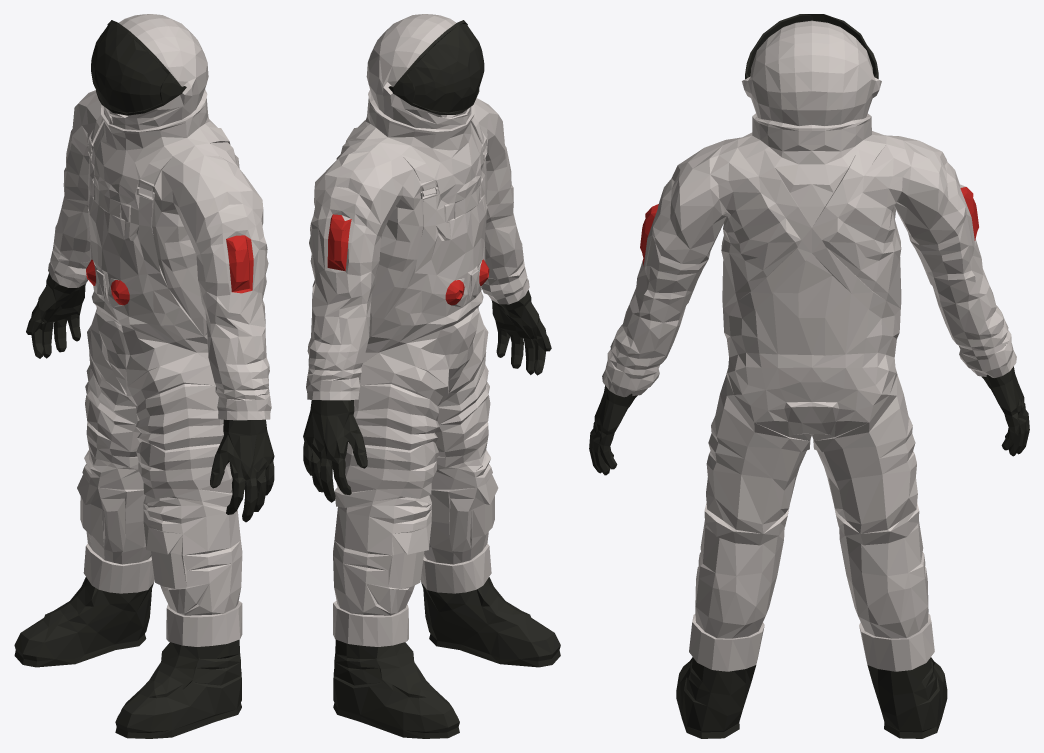
The model's file is 09 Astonaut_2.FBX.
3 views of the same model, side by side, from view 1: azimuth 30°, elevation 25°; view 2: azimuth 150°, elevation 25°; view 3: azimuth 270°, elevation 25° (orthographic). The views are drawn at different scales.
Visible parts, largest first — view 1: astronaut_2; view 2: astronaut_2; view 3: astronaut_2.
Part boxes in pixels (bbox=[...]): astronaut_2: bbox=[14, 14, 274, 738]; astronaut_2: bbox=[303, 14, 560, 738]; astronaut_2: bbox=[589, 14, 1029, 738].
Size of the model in its own units: 348 by 1424 by 818.
